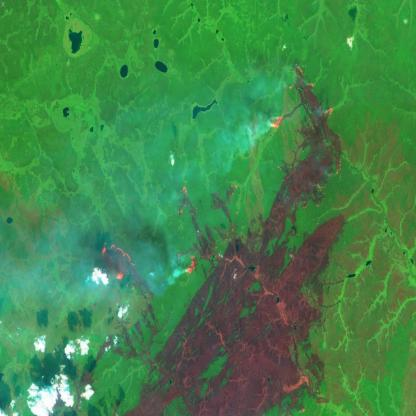fire: (99, 240, 137, 296), (174, 181, 192, 222), (266, 108, 288, 140), (181, 251, 202, 283), (321, 96, 340, 121)
